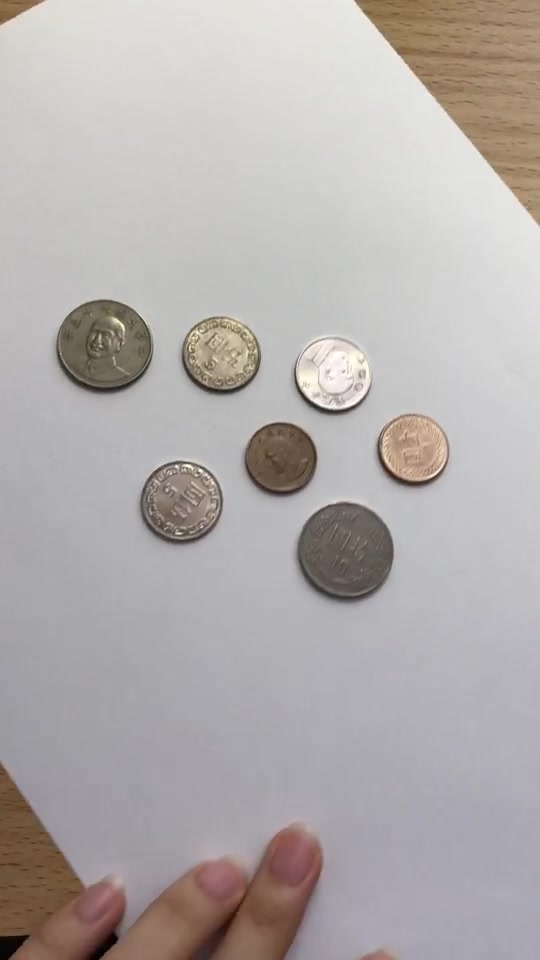1 dallar: (238, 416, 325, 498), (371, 407, 458, 489)
10 dallar: (48, 284, 159, 394), (289, 498, 400, 608)
5 dallar: (129, 451, 230, 552), (173, 303, 274, 404), (289, 328, 382, 415)
